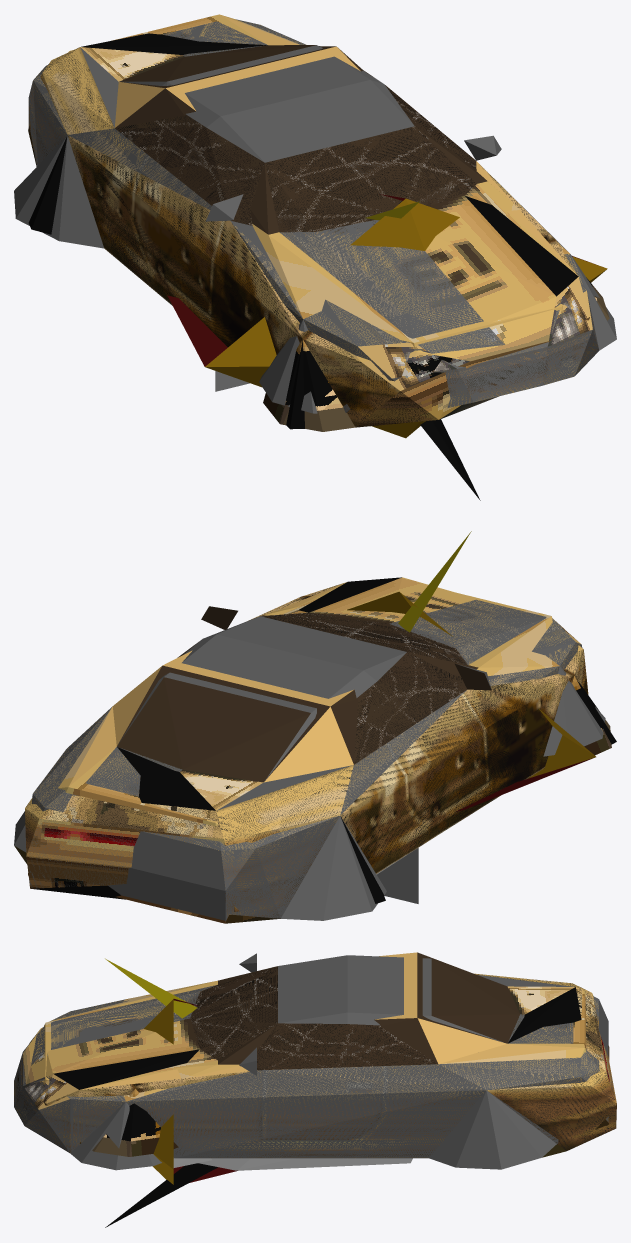
Rendered from v82_palomino_xiii.obj.
The picture shows the model from 3 angles, top to bottom: view 1: azimuth 30°, elevation 25°; view 2: azimuth 150°, elevation 25°; view 3: azimuth 270°, elevation 25°; orthographic projection. The views are drawn at different scales.
Parts seen in each view (by area): view 1: v82_palomino_xiii_tmd_008, v82_palomino_xiii_tmd_009, v82_palomino_xiii_tmd_022, v82_palomino_xiii_tmd_012, v82_palomino_xiii_tmd_013, v82_palomino_xiii_tmd_024, v82_palomino_xiii_tmd_014, v82_palomino_xiii_tmd_026; view 2: v82_palomino_xiii_tmd_013, v82_palomino_xiii_tmd_008, v82_palomino_xiii_tmd_009, v82_palomino_xiii_tmd_014, v82_palomino_xiii_tmd_022, v82_palomino_xiii_tmd_012, v82_palomino_xiii_tmd_024, v82_palomino_xiii_tmd_027, v82_palomino_xiii_tmd_026; view 3: v82_palomino_xiii_tmd_008, v82_palomino_xiii_tmd_013, v82_palomino_xiii_tmd_009, v82_palomino_xiii_tmd_012, v82_palomino_xiii_tmd_014, v82_palomino_xiii_tmd_022, v82_palomino_xiii_tmd_024, v82_palomino_xiii_tmd_026, v82_palomino_xiii_tmd_021.
Boxes of the visible parts, box(x1,y1,x2,y2) form: v82_palomino_xiii_tmd_008: box(68, 45, 616, 413); v82_palomino_xiii_tmd_009: box(67, 86, 609, 431); v82_palomino_xiii_tmd_022: box(28, 33, 578, 429); v82_palomino_xiii_tmd_012: box(28, 14, 569, 348); v82_palomino_xiii_tmd_013: box(14, 19, 315, 248); v82_palomino_xiii_tmd_024: box(167, 194, 607, 438); v82_palomino_xiii_tmd_014: box(29, 47, 184, 134); v82_palomino_xiii_tmd_026: box(299, 201, 480, 500); v82_palomino_xiii_tmd_013: box(14, 676, 386, 921); v82_palomino_xiii_tmd_008: box(164, 599, 605, 814); v82_palomino_xiii_tmd_009: box(190, 577, 611, 873); v82_palomino_xiii_tmd_014: box(14, 765, 353, 911); v82_palomino_xiii_tmd_022: box(31, 577, 616, 903); v82_palomino_xiii_tmd_012: box(28, 593, 559, 923); v82_palomino_xiii_tmd_024: box(347, 591, 595, 811); v82_palomino_xiii_tmd_027: box(377, 848, 418, 903); v82_palomino_xiii_tmd_026: box(398, 531, 471, 632); v82_palomino_xiii_tmd_008: box(14, 953, 486, 1170); v82_palomino_xiii_tmd_013: box(427, 959, 608, 1169); v82_palomino_xiii_tmd_009: box(22, 967, 435, 1156); v82_palomino_xiii_tmd_012: box(44, 952, 609, 1129); v82_palomino_xiii_tmd_014: box(474, 973, 616, 1157); v82_palomino_xiii_tmd_022: box(48, 987, 601, 1143); v82_palomino_xiii_tmd_024: box(144, 999, 237, 1184); v82_palomino_xiii_tmd_026: box(105, 958, 217, 1227); v82_palomino_xiii_tmd_021: box(198, 1158, 412, 1170).
Bounding box in the file's own units: 1.9 × 1.42 × 3.14.
40 materials, 26 textured.
